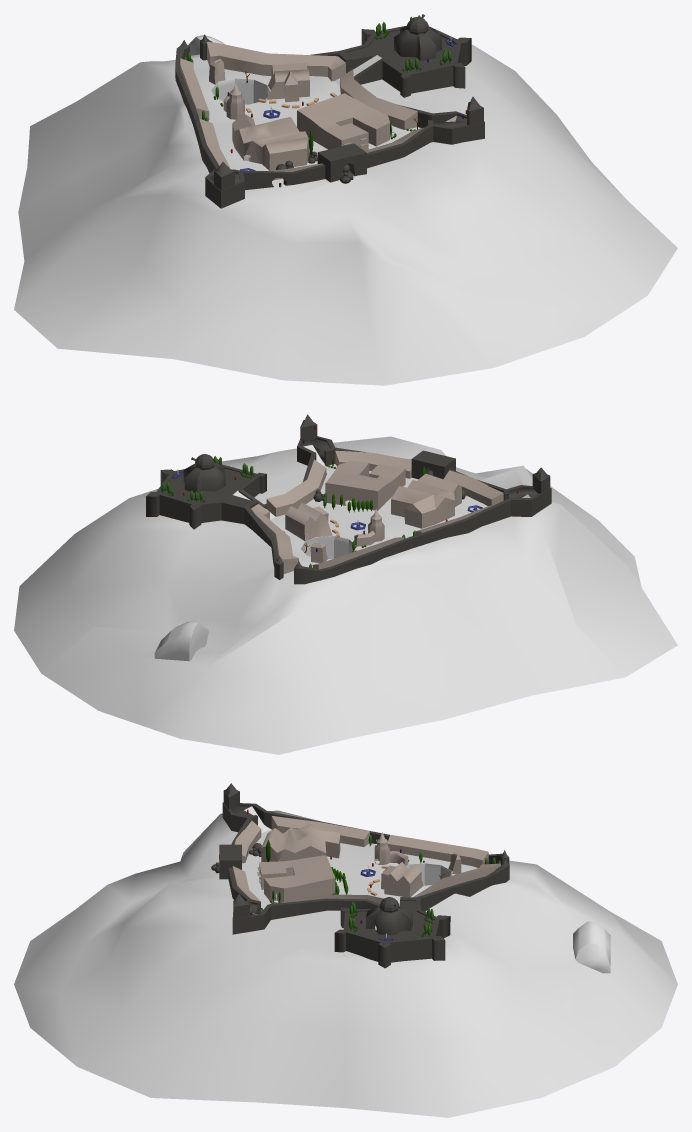
File: City_Complete_3.fbx
3 renders of one model, top to bottom at view 1: azimuth 30°, elevation 25°; view 2: azimuth 150°, elevation 25°; view 3: azimuth 270°, elevation 25°, orthographic. The views are drawn at different scales.
Parts seen in each view (by area): view 1: polySurface260, polySurface19, polySurface25, polySurface123, polySurface103, polySurface16, polySurface23, polySurface104, polySurface258, polySurface106; view 2: polySurface260, polySurface19, polySurface25, polySurface123, polySurface24, polySurface16, polySurface23, polySurface104, polySurface258, polySurface103, polySurface22, polySurface46 (+1 smaller); view 3: polySurface260, polySurface19, polySurface25, polySurface123, polySurface106, polySurface24, polySurface16, polySurface107, polySurface104, polySurface258, polySurface103, polySurface46.
Boxes of the visible parts, x1,y1,x2,y2 form: polySurface260: [14, 45, 677, 385]; polySurface19: [175, 25, 484, 208]; polySurface25: [297, 93, 389, 150]; polySurface123: [232, 113, 309, 170]; polySurface103: [207, 42, 345, 81]; polySurface16: [346, 30, 456, 72]; polySurface23: [340, 69, 417, 129]; polySurface104: [266, 62, 309, 102]; polySurface258: [394, 26, 441, 60]; polySurface106: [180, 58, 209, 119]; polySurface260: [14, 436, 677, 754]; polySurface19: [146, 436, 551, 584]; polySurface25: [325, 461, 405, 510]; polySurface123: [391, 473, 461, 528]; polySurface24: [154, 620, 208, 661]; polySurface16: [161, 468, 253, 505]; polySurface23: [266, 459, 326, 516]; polySurface104: [285, 502, 332, 541]; polySurface258: [183, 463, 225, 492]; polySurface103: [251, 504, 298, 573]; polySurface22: [335, 450, 411, 478]; polySurface46: [443, 470, 503, 505]; polySurface260: [14, 810, 677, 1117]; polySurface19: [219, 802, 509, 968]; polySurface25: [259, 855, 335, 902]; polySurface123: [261, 823, 340, 862]; polySurface106: [387, 835, 488, 867]; polySurface24: [573, 921, 610, 973]; polySurface16: [348, 900, 434, 940]; polySurface107: [271, 816, 369, 846]; polySurface104: [381, 862, 423, 897]; polySurface258: [366, 907, 412, 935]; polySurface103: [413, 863, 500, 897]; polySurface46: [234, 820, 261, 863].
Size of the model in its own units: 207 by 52.47 by 217.
